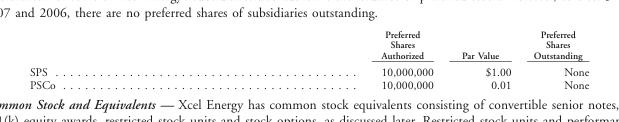table: (28, 28, 588, 91)
table column: (217, 28, 446, 91), (28, 28, 217, 91), (446, 28, 521, 91), (521, 28, 588, 91)
table column header: (28, 28, 588, 62)
table row: (28, 28, 588, 62), (28, 62, 588, 78), (28, 78, 588, 91)
